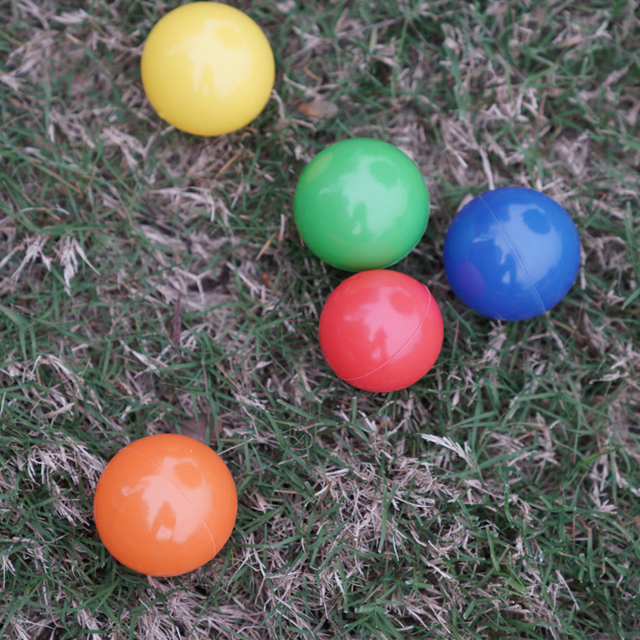Ball: (320, 272, 444, 396)
